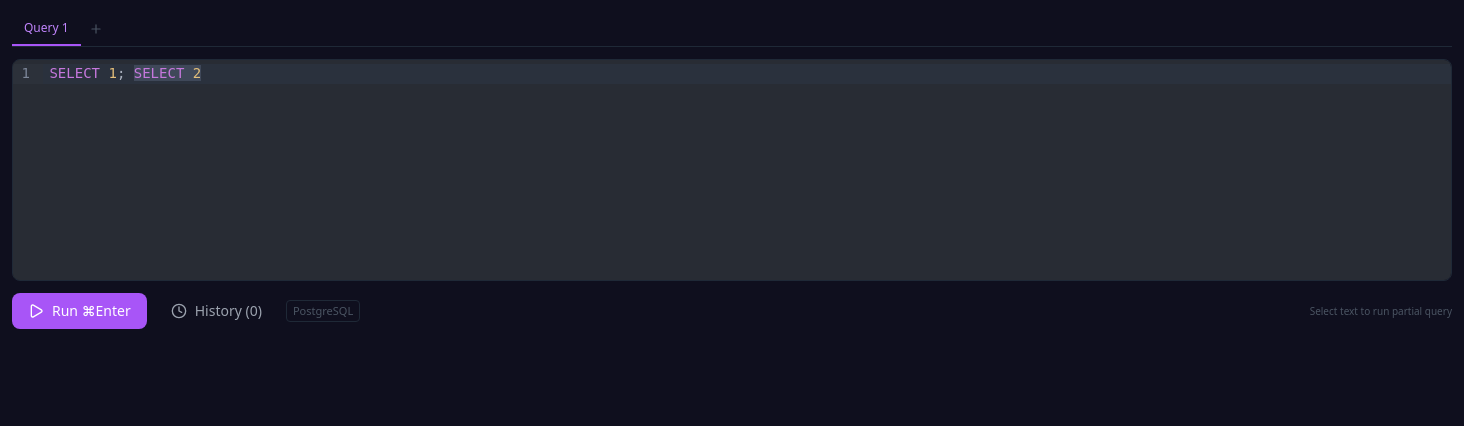
Test case: SqlEditorPage › runs only the selected text, and says when the server cut the rows short
The width and height of the screenshot is (1464, 426).
Click the button with test id "run-query-btn". click: [79, 311]
box: x1=12 y1=293 x2=147 y2=329
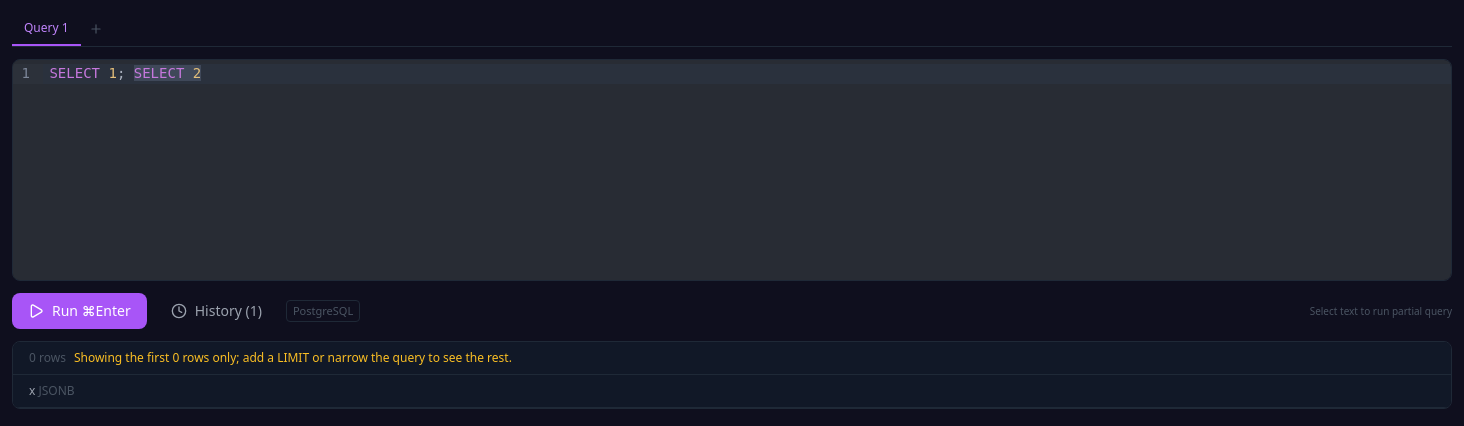
Result: the text with test id "query-truncated" is shown at x1=74 y1=349 x2=512 y2=366
